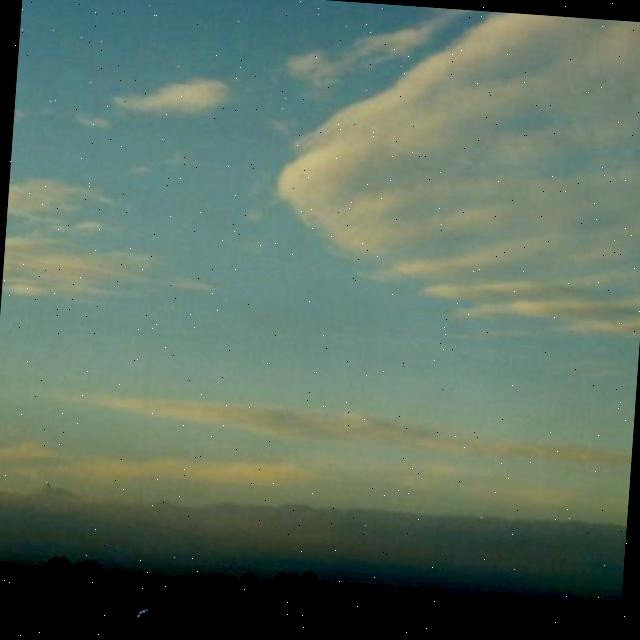Sc: (209, 1, 640, 355)
